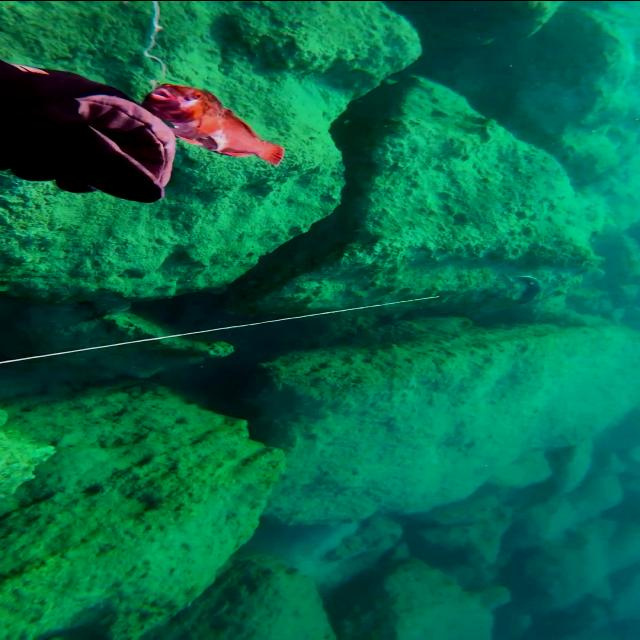Balon Baligi: (514, 275, 542, 304)
